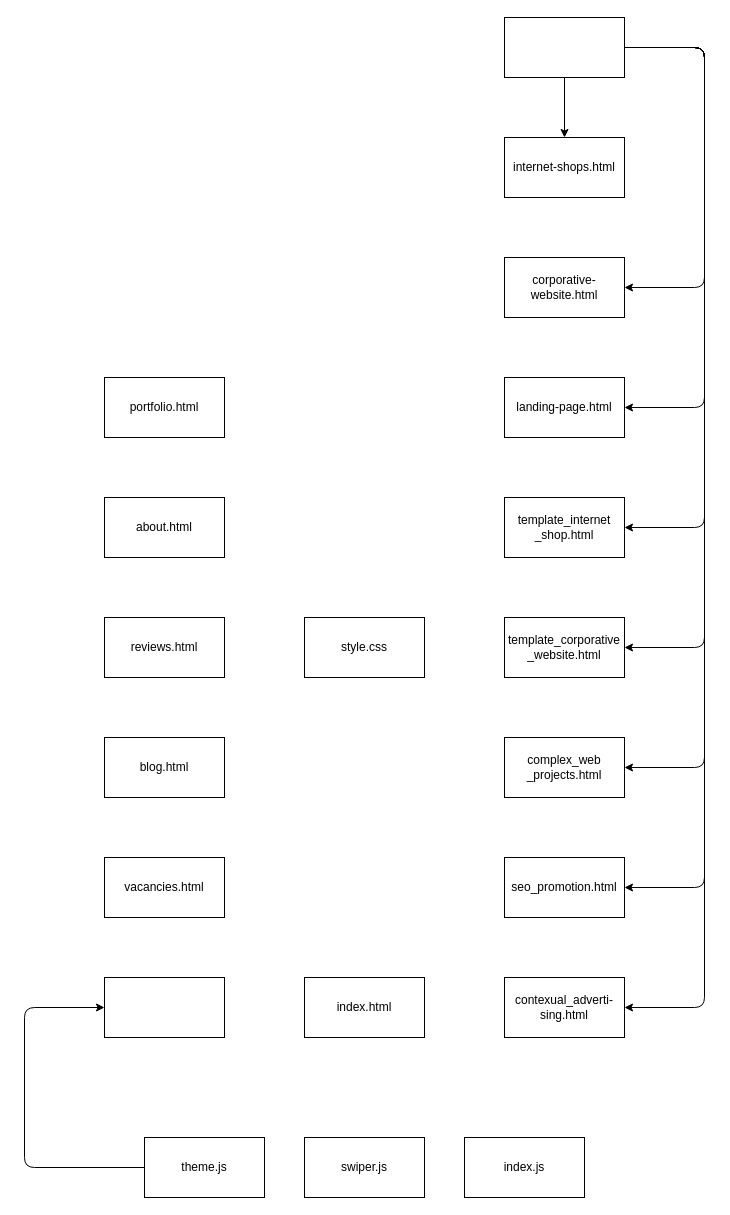
The diagram is 730 pixels wide and 1215 high, and some of its shapes have lost their labels. The shapes that lost their labels are listed below. From the top down, each one's centre as x and y in pixels, then its label:
At (x=564, y=47): "services.html".
At (x=164, y=1007): "contacts.html".
